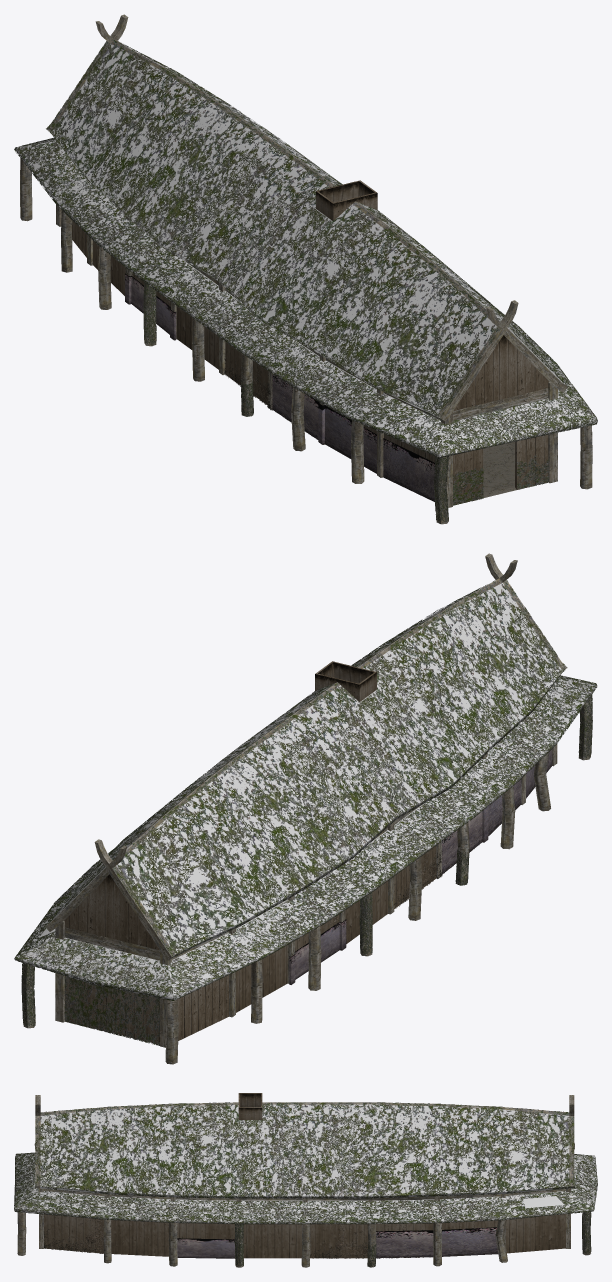
Rendered from Longhouse_LOD02.fbx.
3 renders of one model, top to bottom at view 1: azimuth 30°, elevation 25°; view 2: azimuth 150°, elevation 25°; view 3: azimuth 270°, elevation 25°, orthographic. The views are drawn at different scales.
Visible parts, largest first — view 1: Mesh Object; view 2: Mesh Object; view 3: Mesh Object.
Part boxes in pixels (x1,y1,x2,y2): Mesh Object: (14, 14, 597, 524); Mesh Object: (14, 553, 597, 1064); Mesh Object: (14, 1093, 597, 1267).
Bounding box in the file's own units: 7.11 × 5.48 × 22.11.
